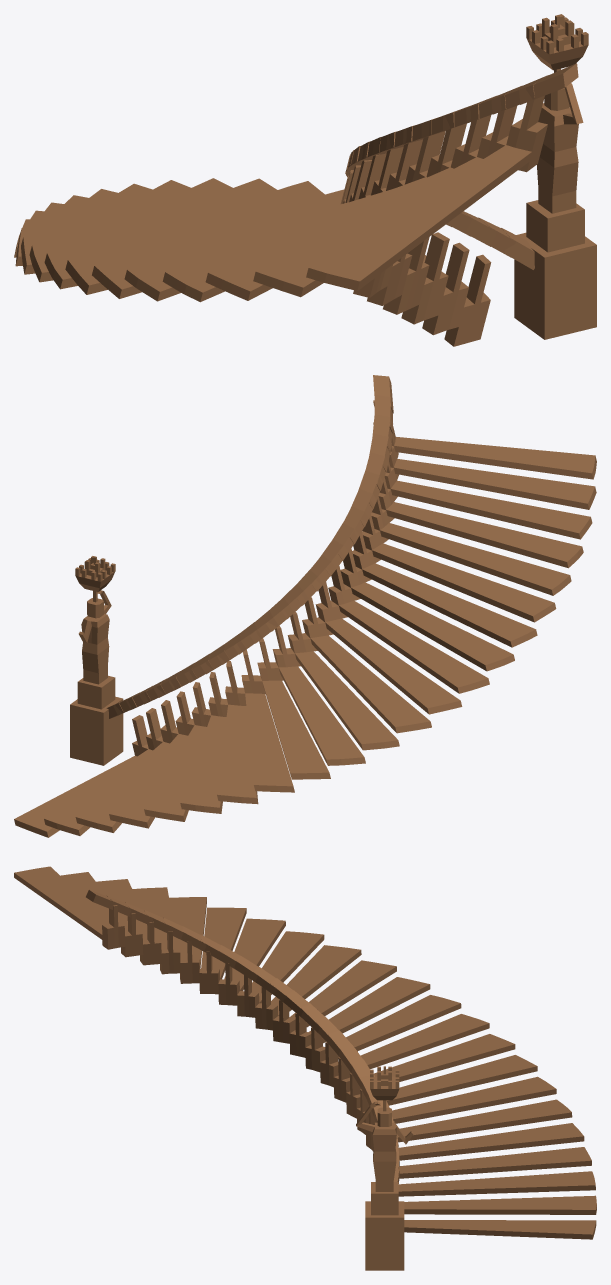
Rendered from Saircase.fbx.
3 renders of one model, top to bottom at view 1: azimuth 30°, elevation 25°; view 2: azimuth 150°, elevation 25°; view 3: azimuth 270°, elevation 25°, orthographic. The views are drawn at different scales.
Parts seen in each view (by area): view 1: staircase; view 2: staircase; view 3: staircase.
Boxes of the visible parts, <box> form: staircase: <box>14,14,596,346</box>; staircase: <box>14,375,596,837</box>; staircase: <box>14,866,596,1270</box>.
Bounding box in the file's own units: 9197 × 6909 × 12010.
